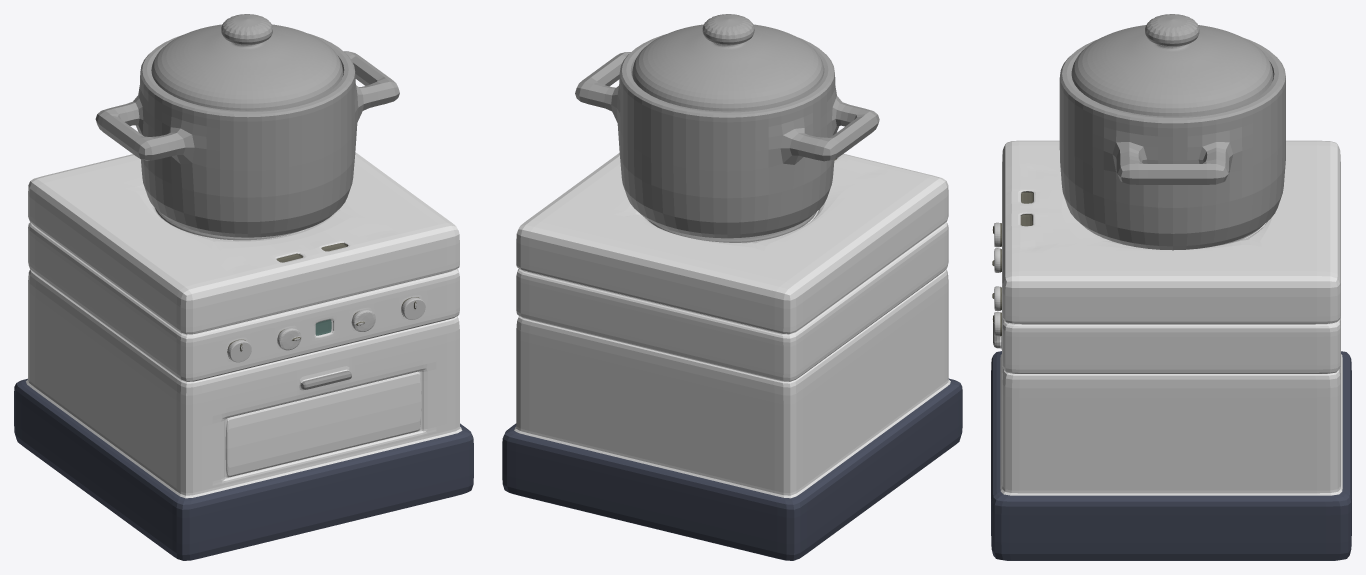
Rendered from Induction_pot.fbx.
3 views of the same model, side by side, from view 1: azimuth 30°, elevation 25°; view 2: azimuth 150°, elevation 25°; view 3: azimuth 270°, elevation 25° (orthographic). The views are drawn at different scales.
Visible parts, largest first — view 1: 큐브.053, 원형.033, 원형.034; view 2: 큐브.053, 원형.033, 원형.034; view 3: 큐브.053, 원형.033, 원형.034.
Boxes of the visible parts, left/top/right/bottom form: 큐브.053: left=14, top=152, right=473, bottom=560; 원형.033: left=95, top=33, right=399, bottom=237; 원형.034: left=151, top=14, right=343, bottom=110; 큐브.053: left=502, top=153, right=962, bottom=560; 원형.033: left=575, top=34, right=879, bottom=238; 원형.034: left=632, top=14, right=824, bottom=111; 큐브.053: left=991, top=140, right=1351, bottom=560; 원형.033: left=1059, top=38, right=1285, bottom=250; 원형.034: left=1071, top=14, right=1273, bottom=116.
Size of the model in its own units: 315 by 452 by 315.
